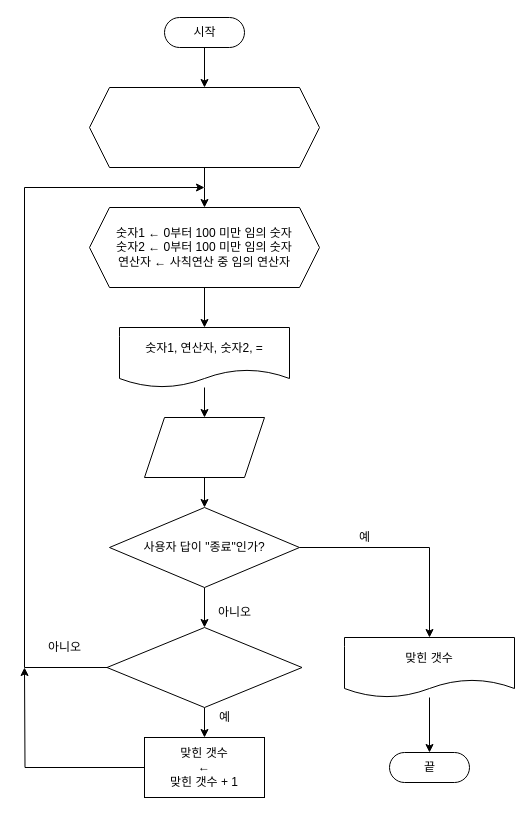
Image size: 532x815. Some labels were removed from this diagram. The shapes that lost their labels are listed below. From the top down, each one's box as (x1, y1, x2, y2) in pixels, then its label:
(88, 86, 320, 168): 맞힌 갯수 ← 0 사용자 답
(144, 416, 264, 478): 사용자 답 입력
(106, 626, 302, 708): 사용자 답이 사칙연산 문제의 정답인가?
